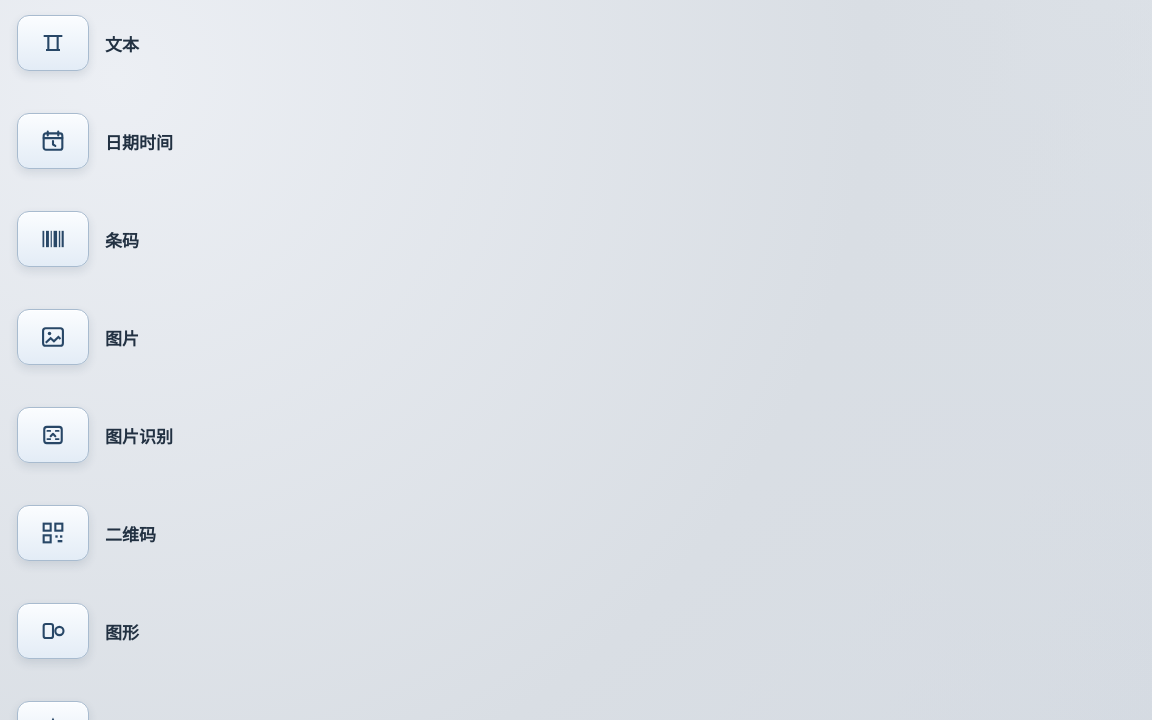
LeftPalette preset picker › opens shape picker and emits selected shape id
Later steps or results of the test are not shown.
Click the button with test id "tool-shape" at (53, 631), box [0,588,1151,674]
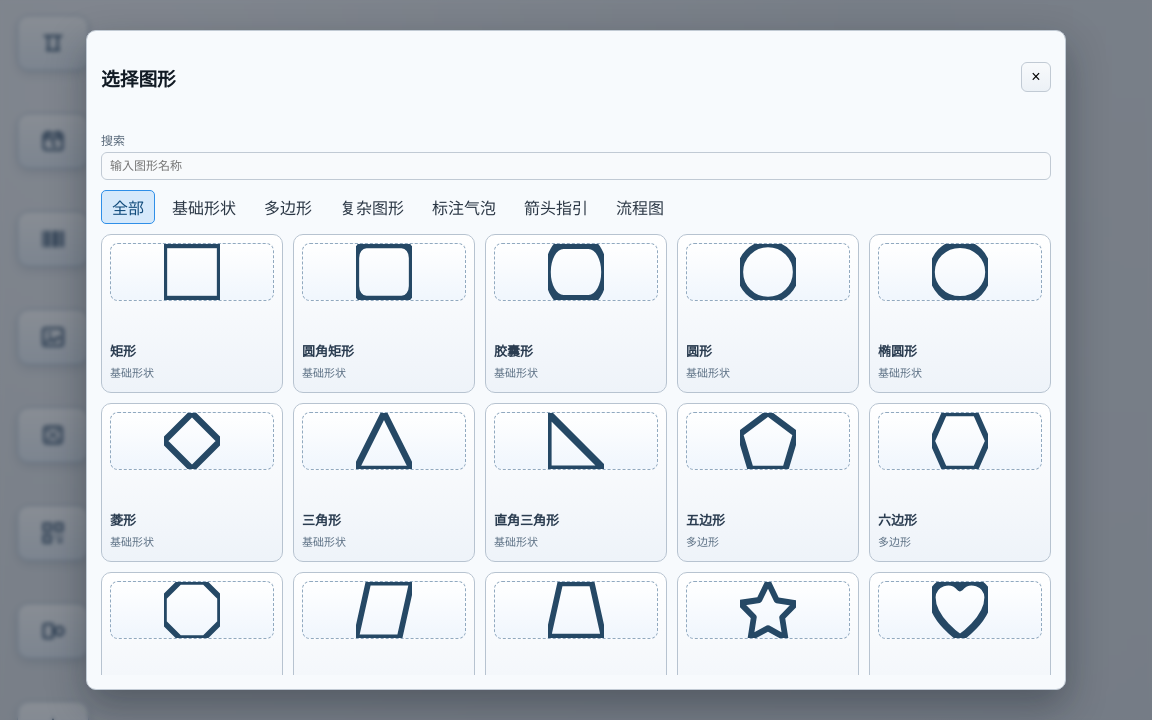
Check: the heading "选择图形" is shown, box [101,64,176,91]
